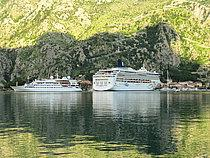Ship: (89, 64, 167, 97), (7, 72, 86, 96)
